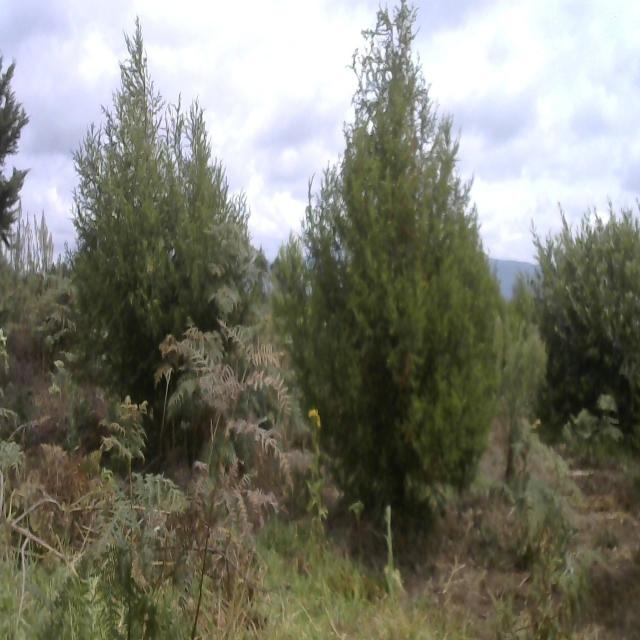Juniperus procesera: (277, 59, 520, 556), (55, 32, 265, 443)
